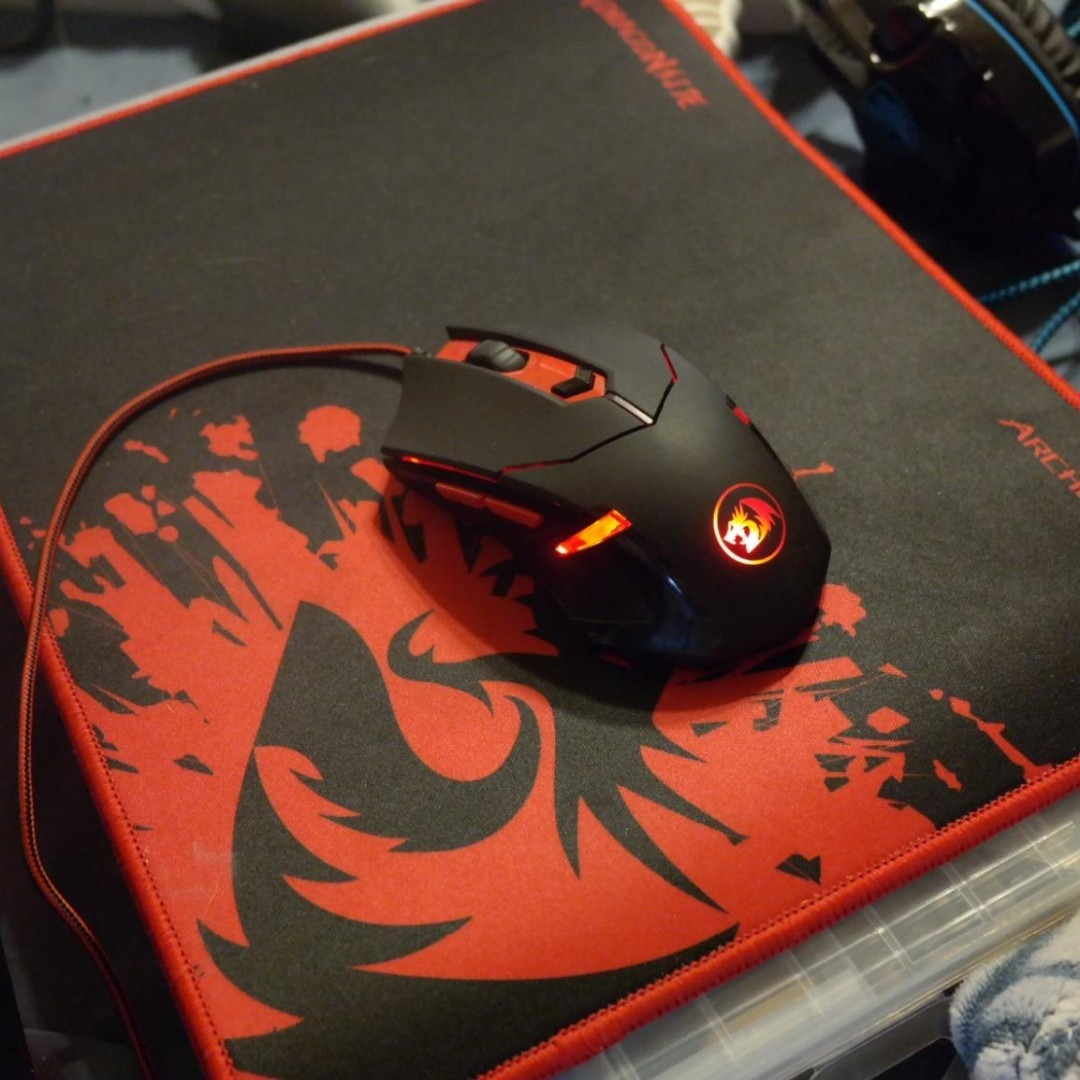mouse: (356, 267, 850, 695)
